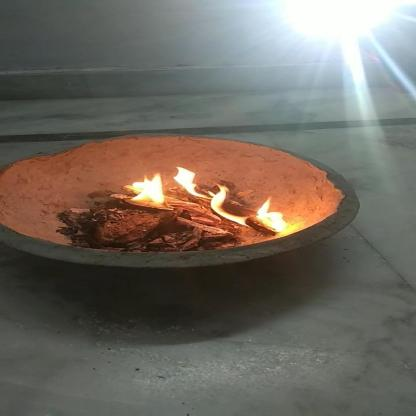fire: (169, 159, 255, 235), (125, 167, 166, 204), (252, 196, 289, 234)
